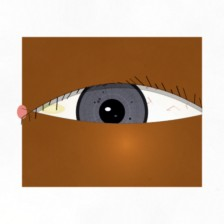pinguecula_lesion: (27, 88, 78, 129)
